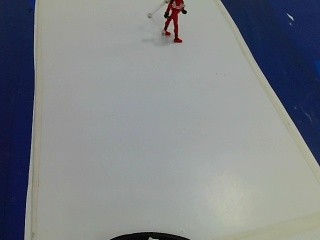pedestrian: (144, 0, 201, 53)
